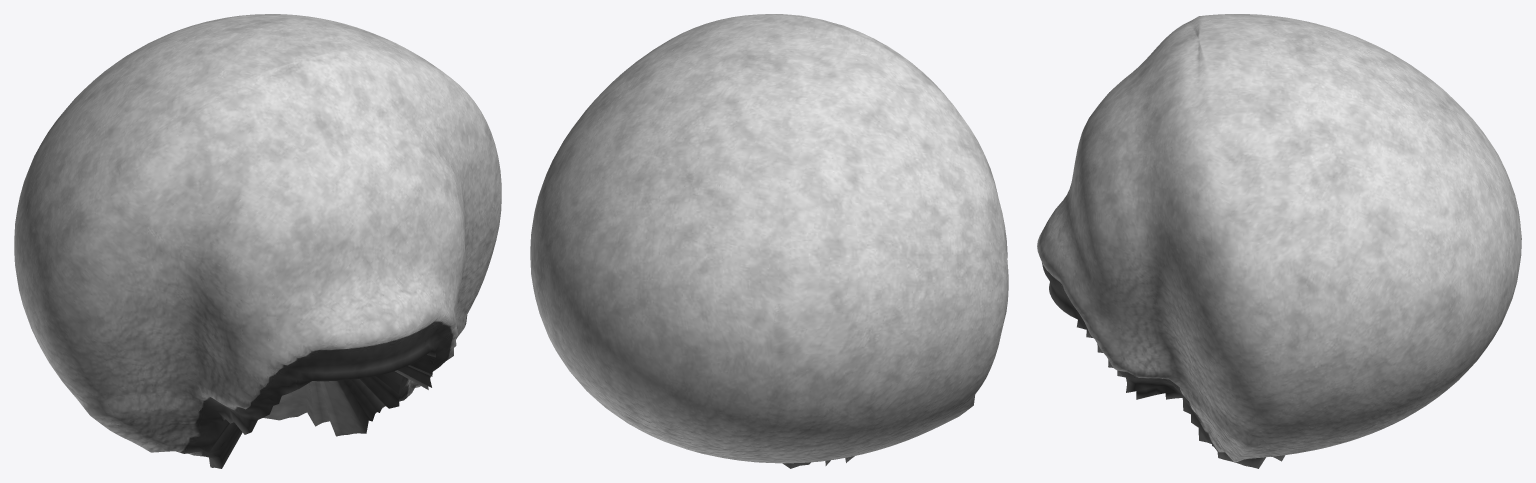
The model's file is hair_afro_female.glb.
3 renders of one model, left to right at view 1: azimuth 30°, elevation 25°; view 2: azimuth 150°, elevation 25°; view 3: azimuth 270°, elevation 25°, orthographic. The views are drawn at different scales.
Visible parts, largest first — view 1: HairAfro; view 2: HairAfro; view 3: HairAfro.
Boxes of the visible parts, x1=… form: HairAfro: x1=14, y1=14, x2=501, y2=468; HairAfro: x1=530, y1=14, x2=1008, y2=468; HairAfro: x1=1037, y1=14, x2=1521, y2=468.
Bounding box in the file's own units: 0.297 × 0.2643 × 0.2889.
1 material, 1 textured.
